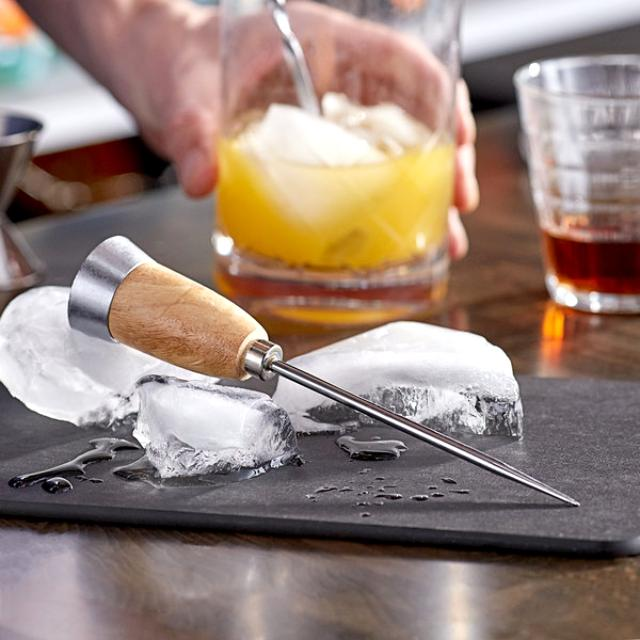ice pick: (69, 237, 582, 507)
